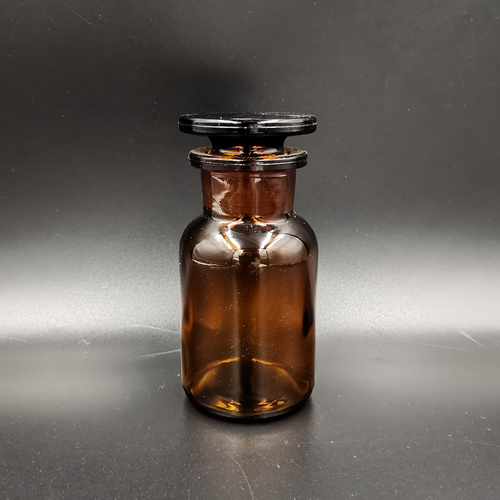glass_bottle: (157, 102, 338, 433)
